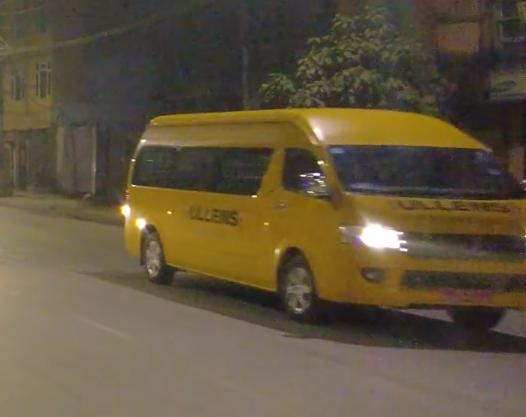school_bus: (122, 106, 526, 338)
